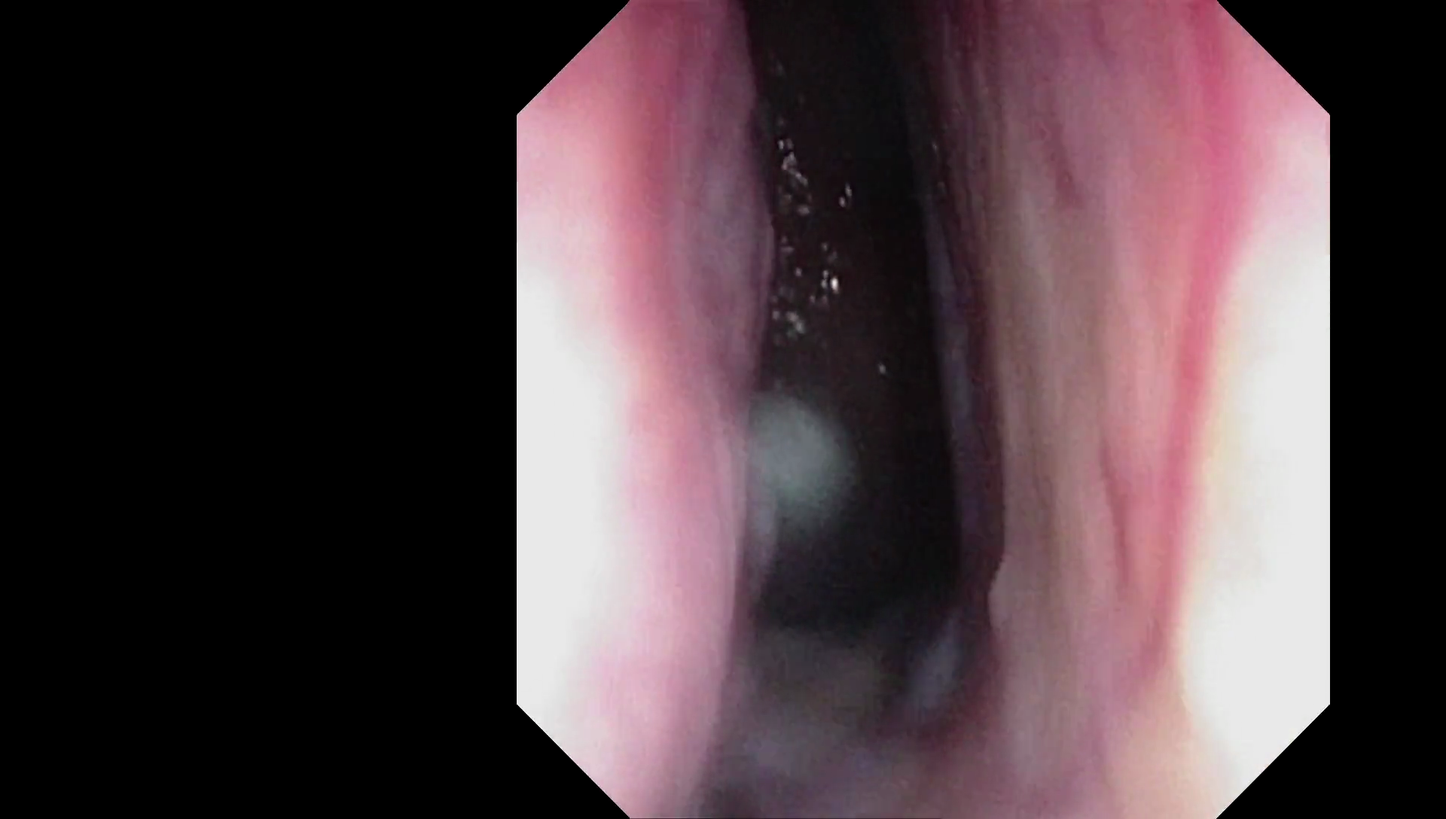close_wall: (1093, 126, 1320, 709), (521, 148, 746, 702)
next: (703, 248, 1050, 751)
